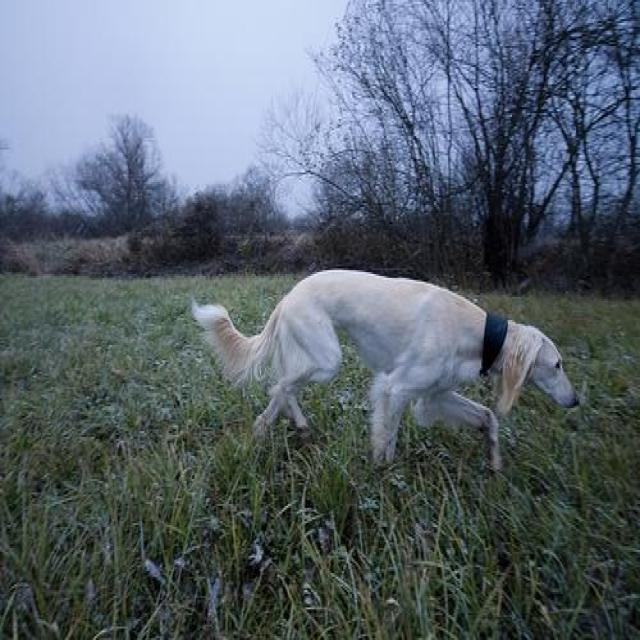saluki: (188, 264, 580, 472)
